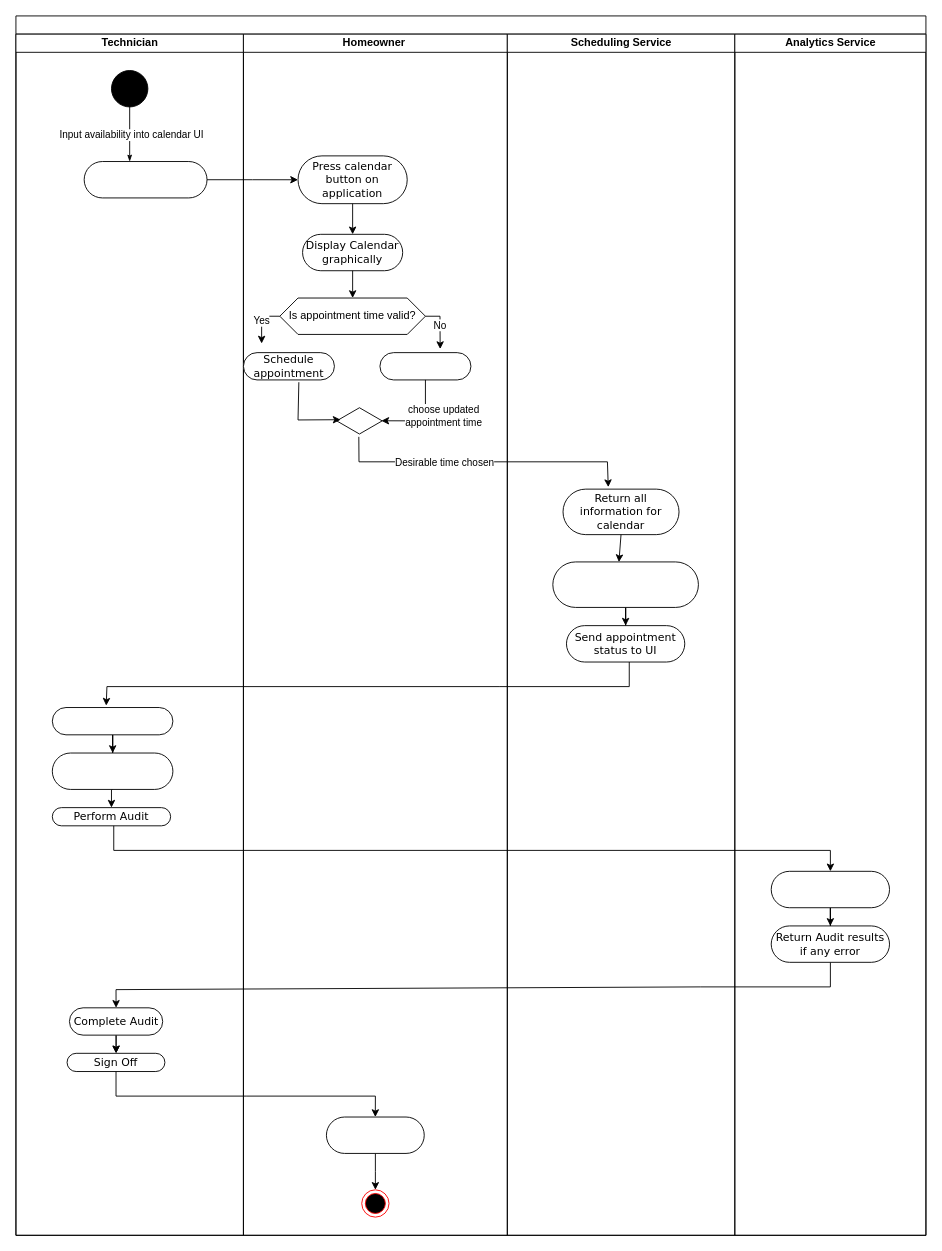
Image size: 942x1251. Some labels were removed from this diagram. Each missing label, with the centre of its shape:
"Alerted of Upcoming appointment" belongs at (112,721).
"Display error message" belongs at (425,366).
"Display Final Report" belongs at (375,1134).
"Generate audit checklist" belongs at (830,889).
"Save availability in scheduling database" belongs at (145,179).
"Save new appointment date in scheduling database" belongs at (625,584).
"Sign in to Scheduled appointment" belongs at (112,770).
